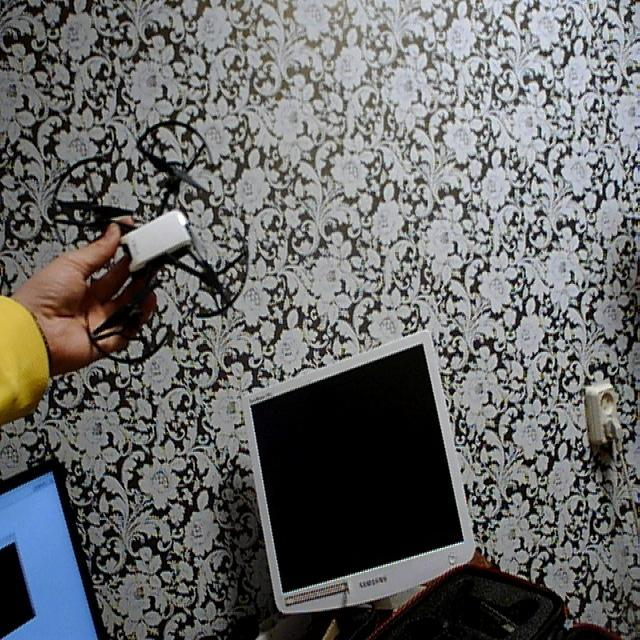drone: (44, 107, 251, 370)
